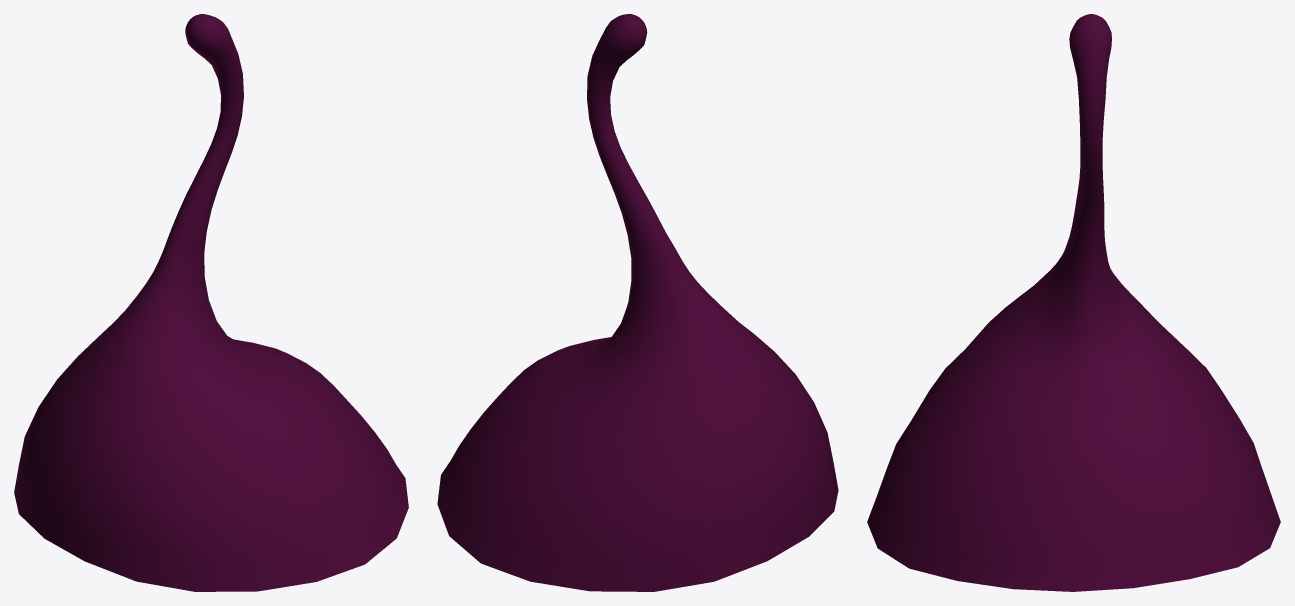
The model's file is Steel_10.fbx.
3 renders of one model, left to right at view 1: azimuth 30°, elevation 25°; view 2: azimuth 150°, elevation 25°; view 3: azimuth 270°, elevation 25°, orthographic. The views are drawn at different scales.
Visible parts, largest first — view 1: pCylinder13; view 2: pCylinder13; view 3: pCylinder13.
Part boxes in pixels (box(x1,y1,x2,y2)): pCylinder13: box(14, 14, 408, 591); pCylinder13: box(437, 14, 838, 591); pCylinder13: box(867, 14, 1280, 591).
Size of the model in its own units: 4.45 by 6.1 by 4.54.
